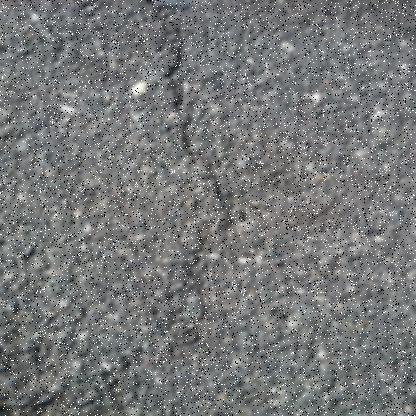Cracks: (138, 0, 245, 228)
